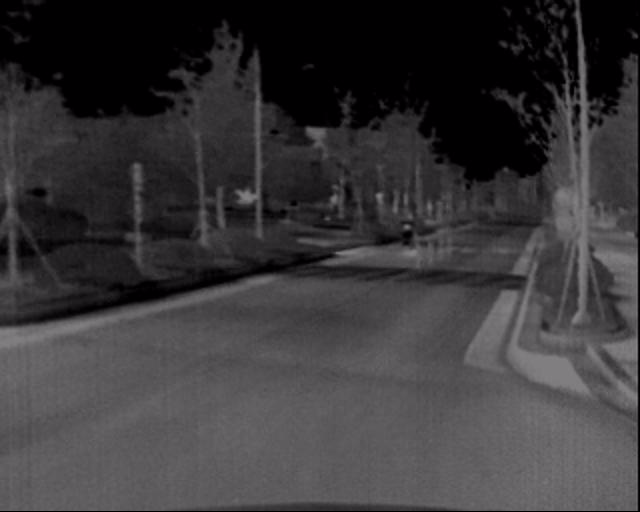person: (384, 205, 416, 262)
